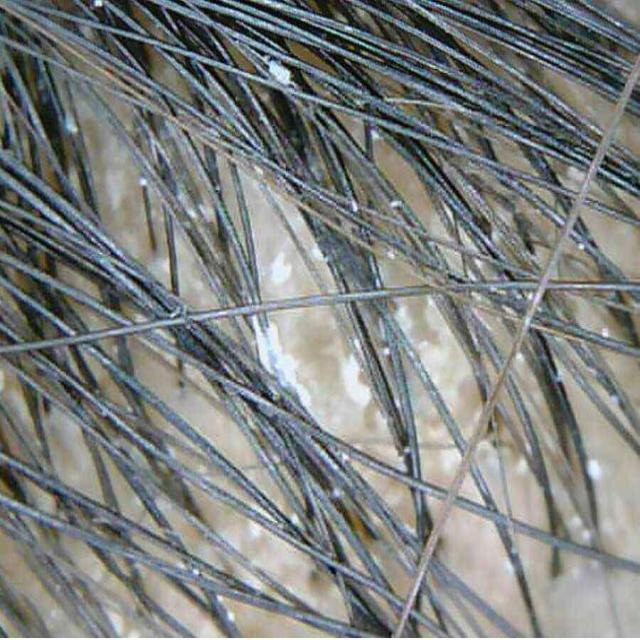d: (251, 317, 311, 410), (340, 338, 370, 406), (271, 251, 292, 286), (268, 58, 294, 86), (396, 306, 410, 331), (65, 111, 79, 135), (589, 459, 602, 483), (388, 199, 402, 209), (351, 199, 359, 213), (91, 0, 103, 9), (601, 327, 609, 338), (386, 251, 396, 259)
